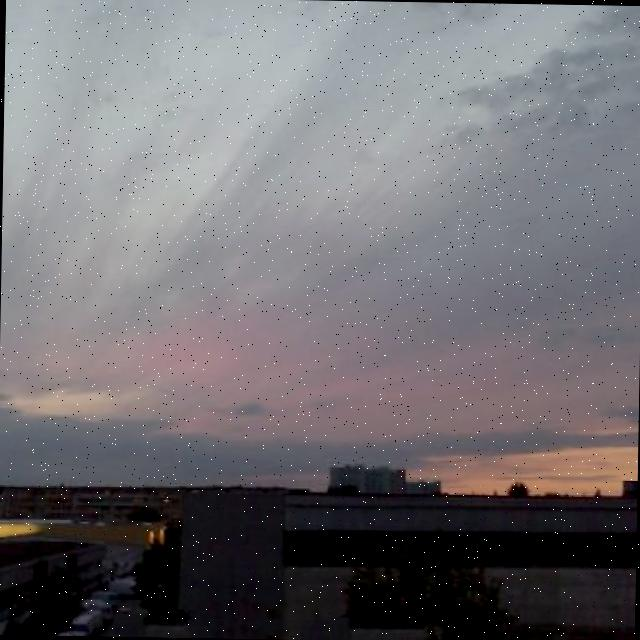Ci: (1, 1, 640, 442)
